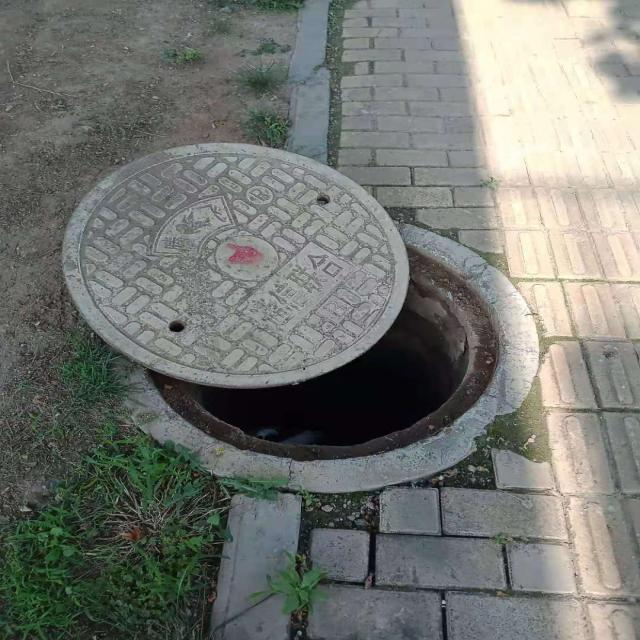Lose: (63, 140, 537, 498)
